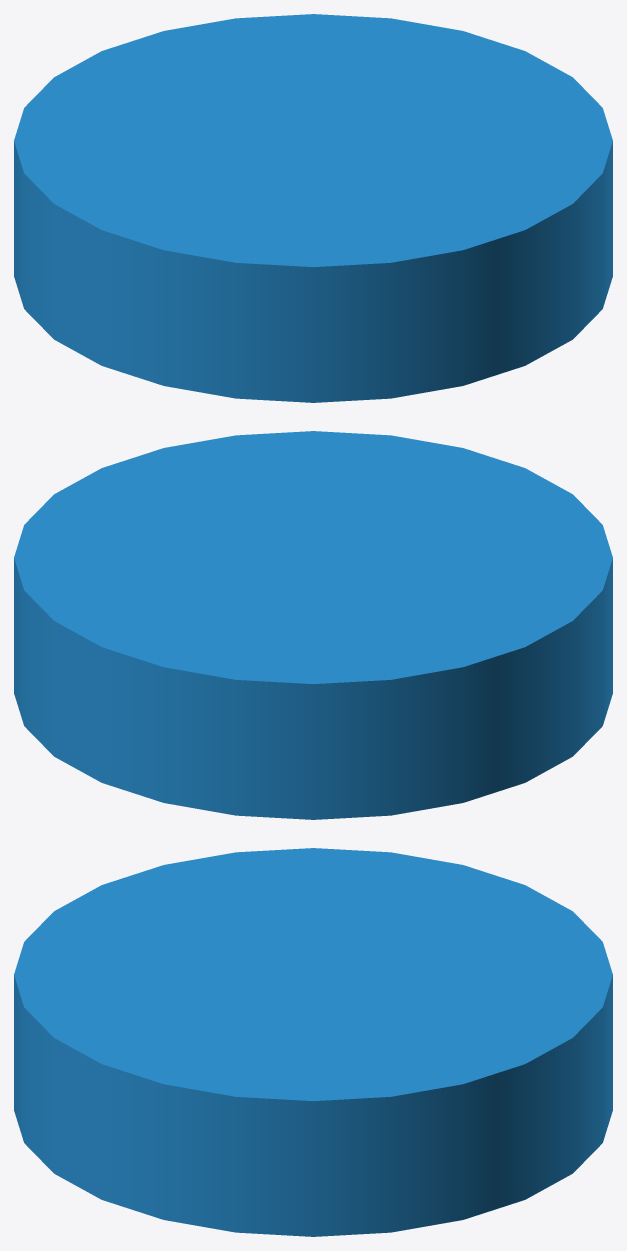
Rendered from Mesa_Stand1.obj.
3 renders of one model, top to bottom at view 1: azimuth 30°, elevation 25°; view 2: azimuth 150°, elevation 25°; view 3: azimuth 270°, elevation 25°, orthographic.
Parts seen in each view (by area): view 1: Mesa_Stand1; view 2: Mesa_Stand1; view 3: Mesa_Stand1.
Boxes of the visible parts, left/top/right/bottom form: Mesa_Stand1: left=14, top=14, right=612, bottom=402; Mesa_Stand1: left=14, top=431, right=612, bottom=819; Mesa_Stand1: left=14, top=848, right=612, bottom=1236.
Bounding box in the file's own units: 0.9761 × 0.2929 × 0.976.
1 material, 1 textured.
